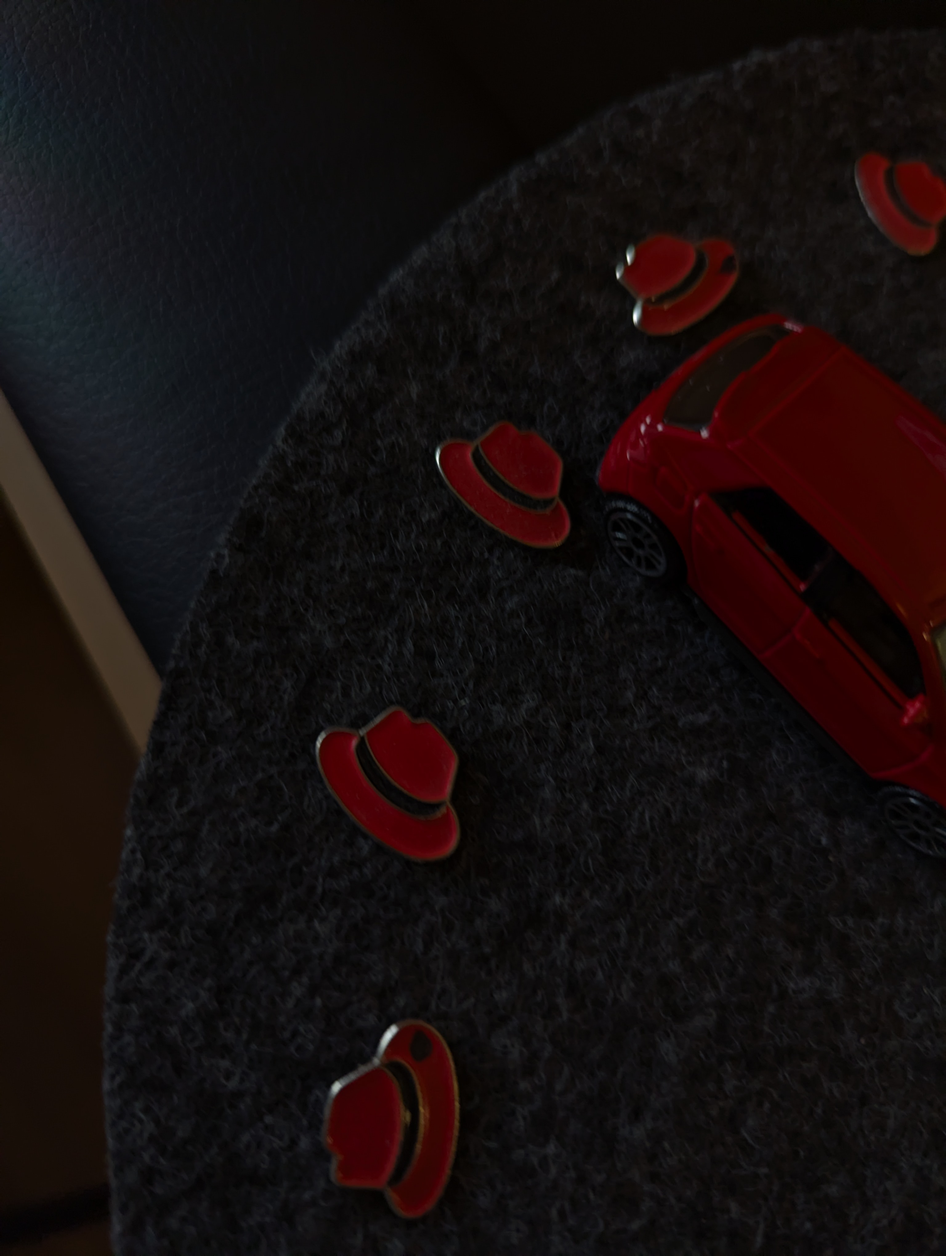Car: (564, 277, 946, 863)
Red-Hat: (280, 985, 486, 1228), (281, 704, 505, 882), (413, 406, 610, 566), (585, 210, 758, 334), (838, 130, 946, 269)
Scratch: (390, 1013, 440, 1067), (711, 246, 746, 282)
